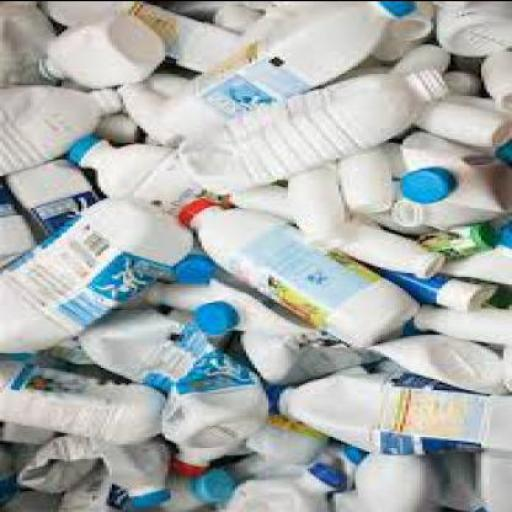plastic: (0, 1, 511, 511), (188, 197, 425, 345), (182, 205, 422, 348), (157, 2, 394, 143), (179, 71, 445, 194), (1, 200, 190, 364), (72, 312, 266, 450), (137, 280, 381, 386), (274, 361, 510, 456), (218, 184, 445, 280), (42, 2, 237, 73), (0, 360, 162, 443), (10, 432, 168, 506), (67, 141, 207, 218), (0, 88, 121, 177), (36, 13, 162, 92), (235, 315, 378, 382), (394, 136, 509, 214), (0, 157, 103, 238), (372, 341, 510, 399), (209, 465, 345, 511), (330, 454, 439, 511), (338, 224, 442, 282), (123, 75, 196, 149), (408, 95, 510, 147), (280, 166, 344, 248), (0, 2, 59, 88), (56, 462, 158, 510), (430, 2, 510, 60), (240, 415, 322, 471), (327, 149, 394, 215), (411, 304, 510, 346), (378, 276, 486, 312), (0, 439, 52, 511), (389, 199, 509, 229), (150, 469, 228, 511), (422, 452, 478, 510), (0, 187, 37, 270), (411, 224, 490, 260), (440, 247, 510, 287), (394, 168, 456, 210), (378, 2, 437, 46), (230, 452, 313, 482), (472, 450, 510, 511), (475, 52, 510, 110), (367, 30, 428, 62), (313, 444, 364, 482), (386, 47, 447, 76), (430, 281, 484, 311), (188, 300, 232, 336), (190, 467, 227, 505), (208, 8, 260, 34), (168, 2, 241, 20), (62, 136, 104, 166), (307, 463, 342, 492), (168, 261, 207, 287), (442, 68, 479, 94), (86, 87, 118, 117), (101, 116, 132, 142), (263, 385, 288, 415), (176, 201, 204, 227), (484, 222, 509, 251), (369, 2, 411, 19), (167, 458, 202, 476), (465, 225, 489, 250), (498, 345, 509, 396), (125, 494, 165, 508), (234, 2, 269, 13), (344, 447, 359, 465), (472, 504, 488, 510)
